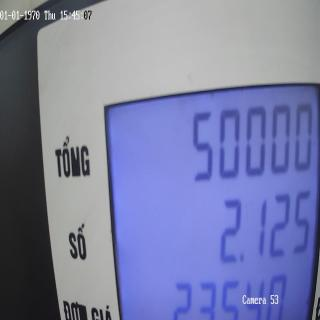screen: (98, 76, 317, 320)
